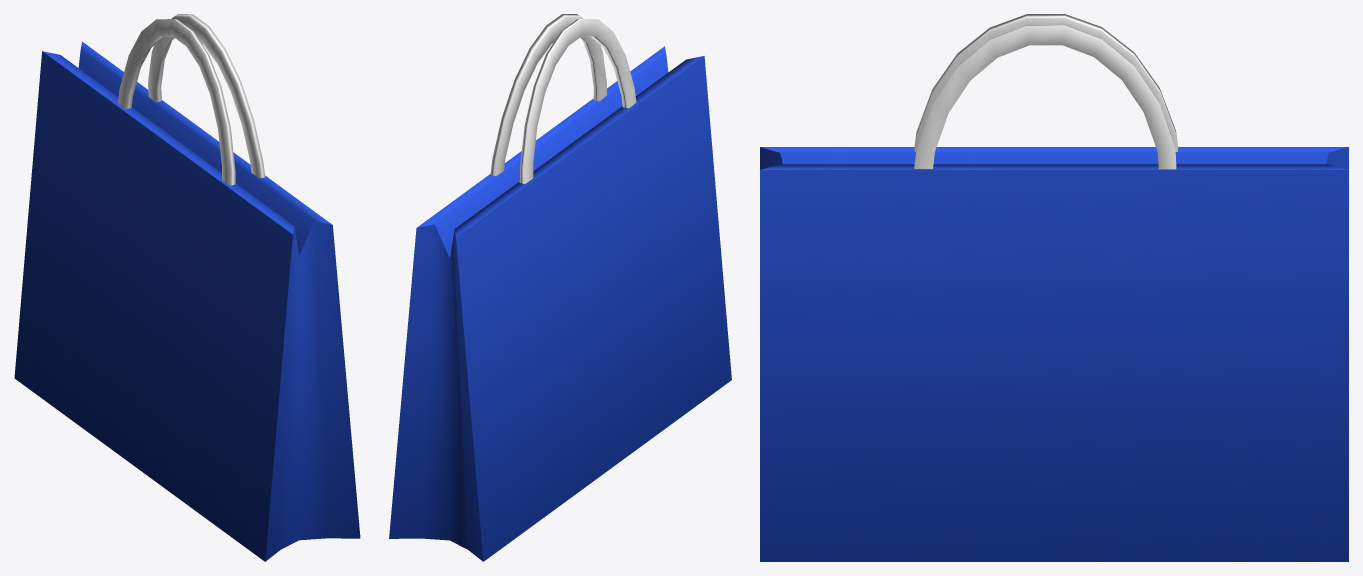
File: PRP_Bag_4.fbx
3 renders of one model, left to right at view 1: azimuth 30°, elevation 25°; view 2: azimuth 150°, elevation 25°; view 3: azimuth 270°, elevation 25°, orthographic. The views are drawn at different scales.
Parts seen in each view (by area): view 1: PRP_Bag_4; view 2: PRP_Bag_4; view 3: PRP_Bag_4.
Boxes of the visible parts, x1,y1,x2,y2 form: PRP_Bag_4: [14, 14, 360, 561]; PRP_Bag_4: [389, 14, 731, 561]; PRP_Bag_4: [760, 14, 1348, 561].
Size of the model in its own units: 15.58 by 68.56 by 71.05.
